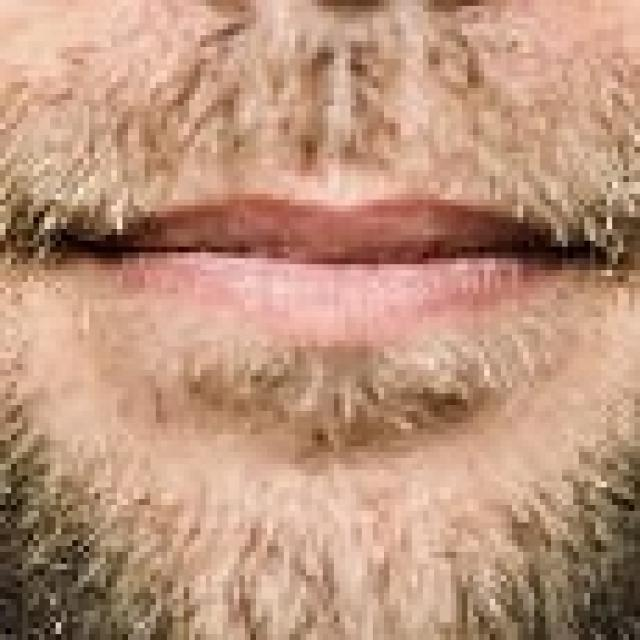closed-mouth: (44, 182, 623, 346)
